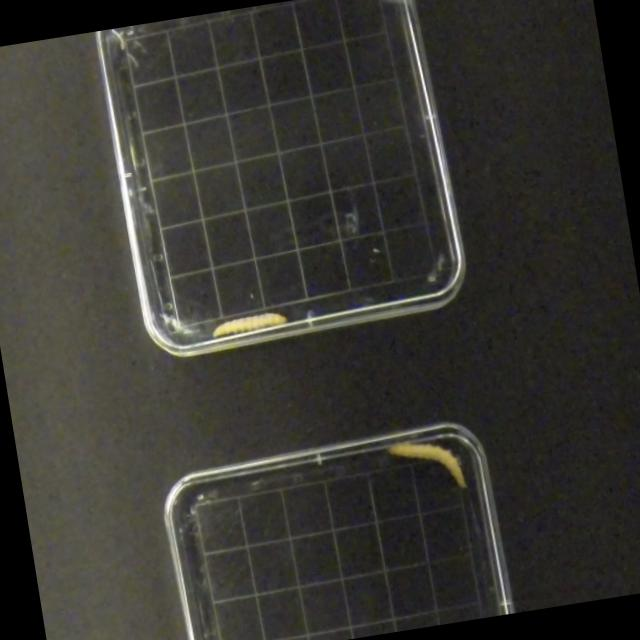larva: (382, 431, 480, 506), (202, 306, 295, 346)
